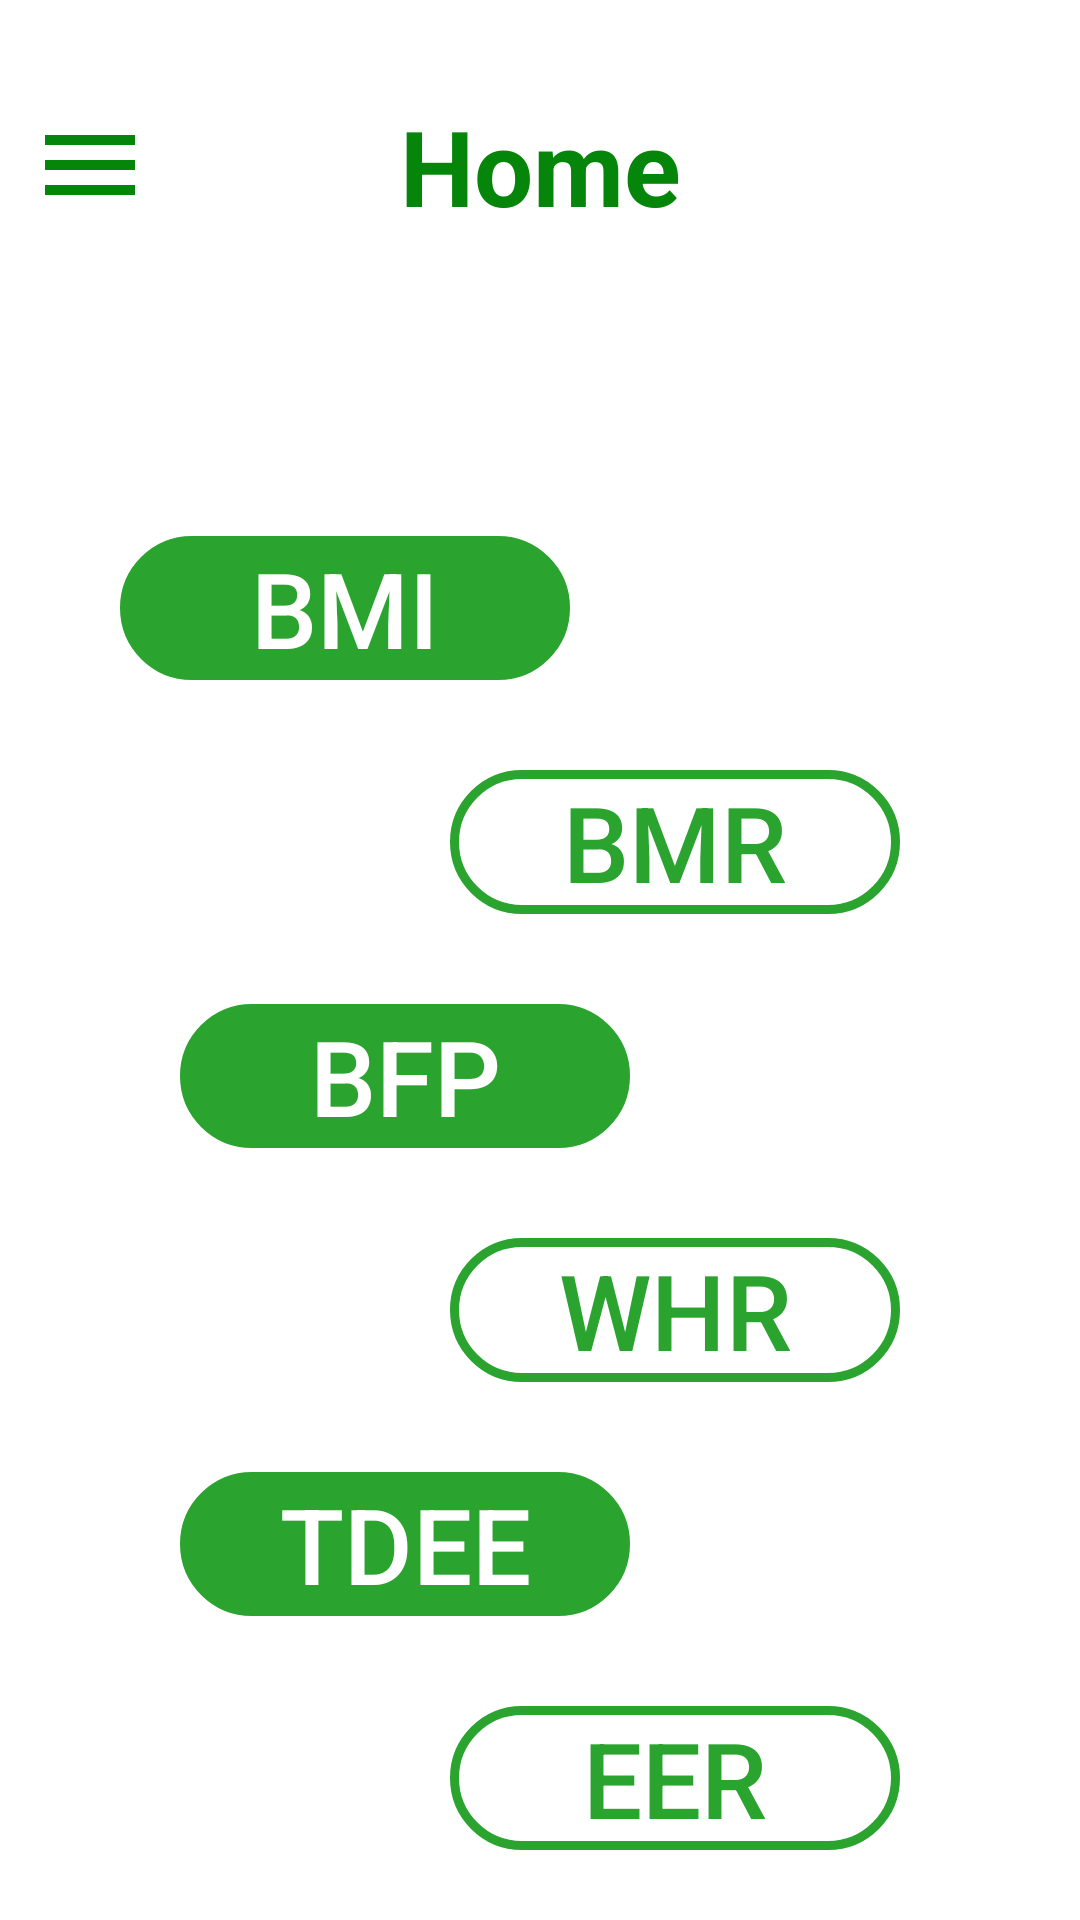

Icons on this 1080 x 1920 Android screen, each with its box as (x1, y1, x2, y2):
menu: (45, 135, 135, 195)
